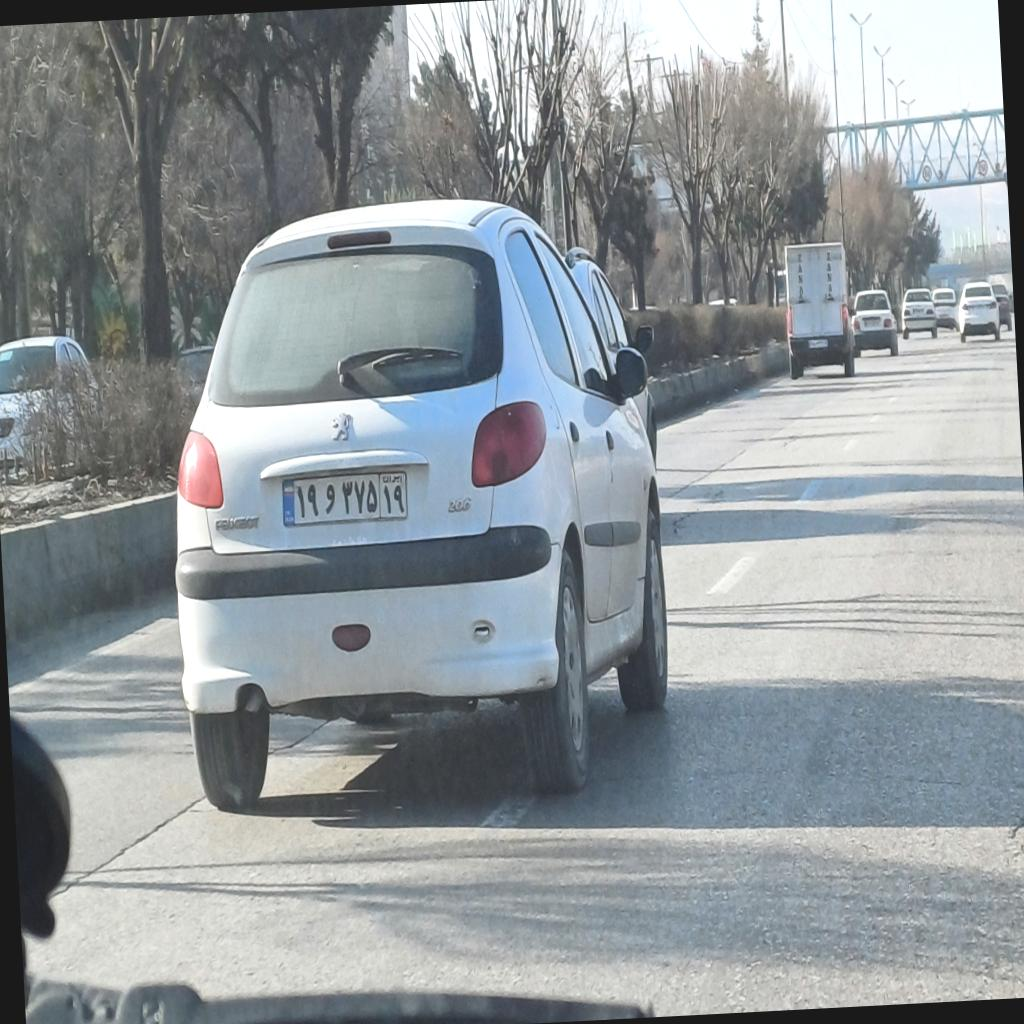Plates: (280, 470, 408, 526)
